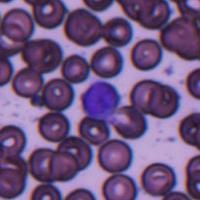L: (81, 79, 119, 119)
